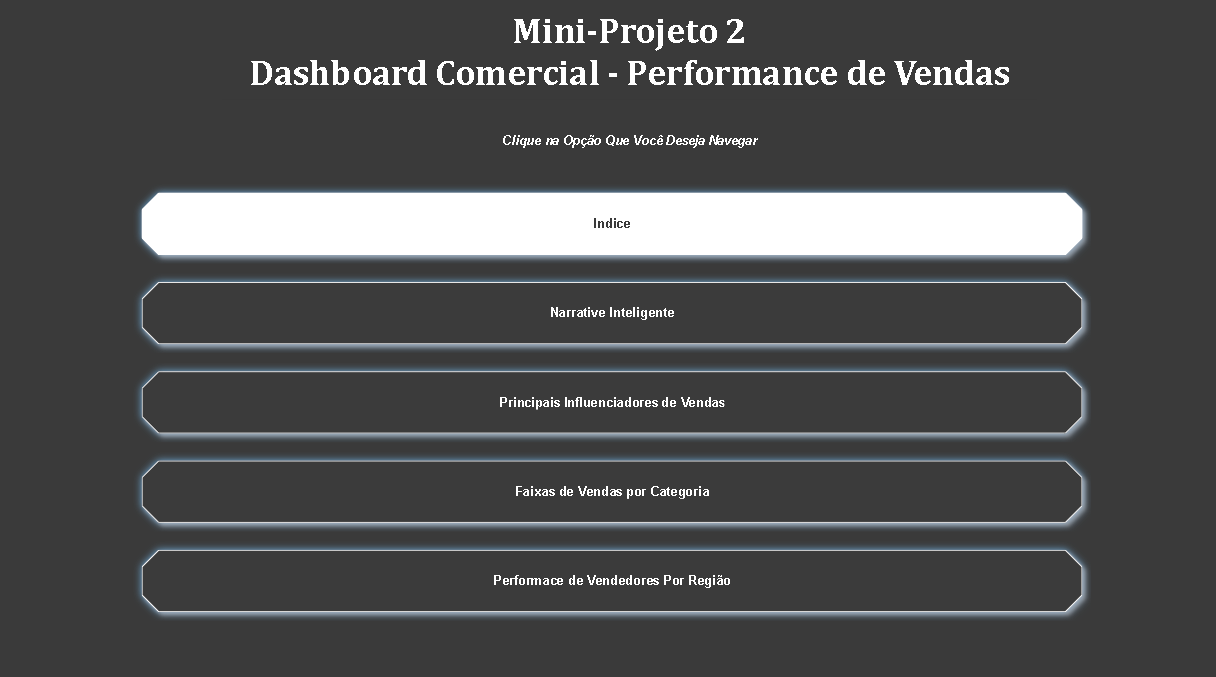

What the dashboard file says about the page in this screenshot:
{"tool":"powerbi","page":{"name":"Indice","canvas":[1280,720],"ordinal":0},"visuals":[{"type":"textbox","box":[10,0,280,280],"z":0},{"type":"pageNavigator","box":[139.6,197.9,999,458.3],"z":1000},{"type":"textbox","box":[232.3,11.5,849,97.9],"z":1001},{"type":"textbox","box":[263.5,139.6,786.5,35.4],"z":1002}]}

Visuals, with their boxes in screenshot pixels (x1, y1, x2, y2), scaled from the page's 1280x720 canvas onto the 1216x677 screenshot:
textbox: l=10, t=0, r=276, b=263
pageNavigator: l=133, t=186, r=1082, b=617
textbox: l=221, t=11, r=1027, b=103
textbox: l=250, t=131, r=998, b=165
